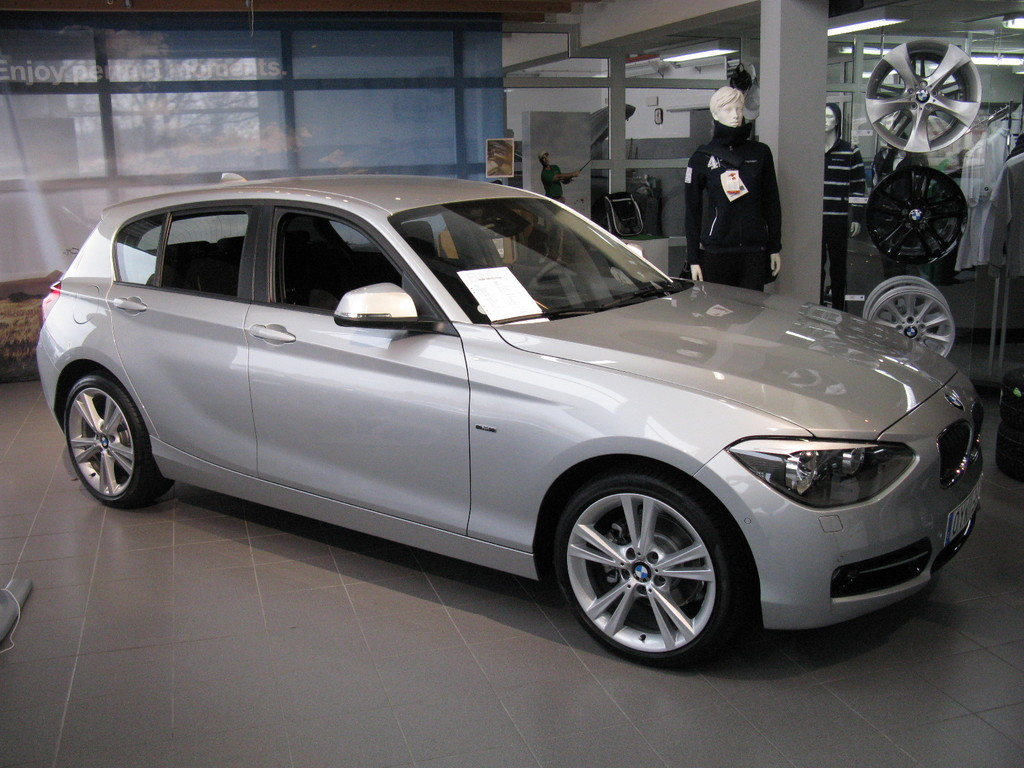Car: (30, 180, 983, 666)
